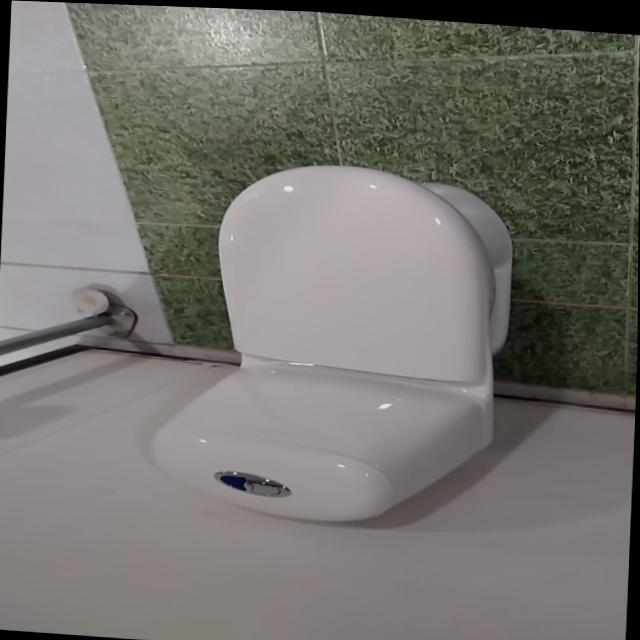toilet: (148, 150, 518, 532)
